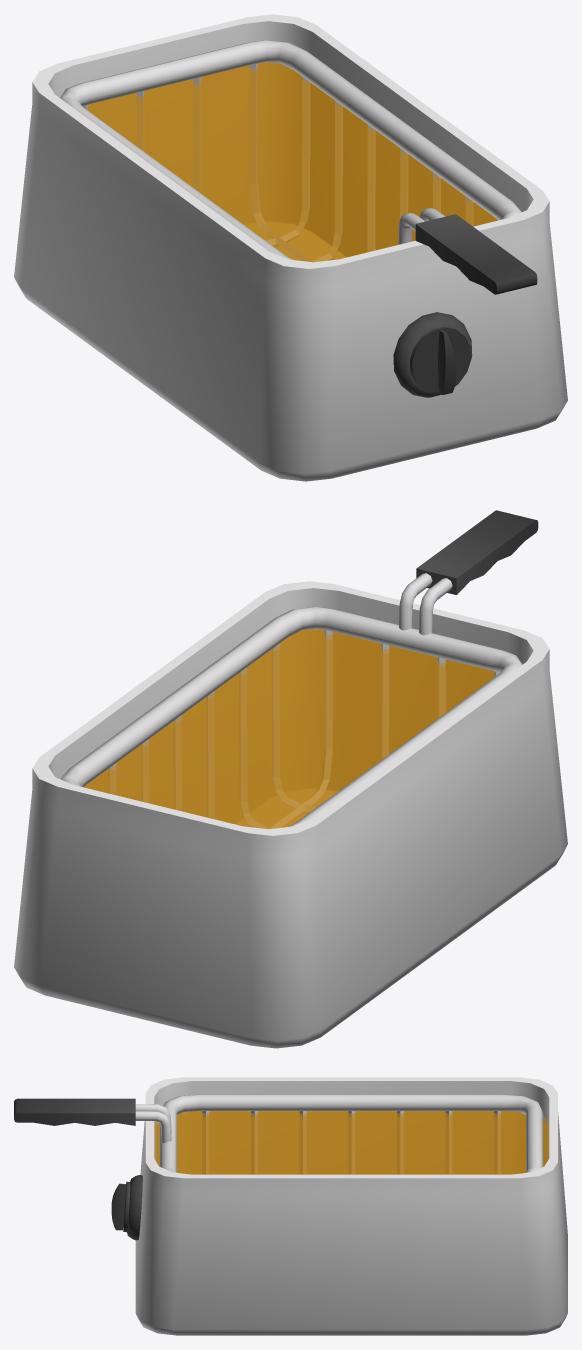
File: deepfryer.fbx
3 renders of one model, top to bottom at view 1: azimuth 30°, elevation 25°; view 2: azimuth 150°, elevation 25°; view 3: azimuth 270°, elevation 25°, orthographic. The views are drawn at different scales.
Visible parts, largest first — view 1: deepFryer, oil_Surface, oil_Volume, basket, Handle, switch_Handle, switch; view 2: deepFryer, oil_Surface, oil_Volume, basket, Handle; view 3: deepFryer, oil_Surface, oil_Volume, basket, Handle, switch, switch_Handle.
Boxes of the visible parts, <box> form: deepFryer: <box>14,14,567,481</box>; oil_Surface: <box>87,62,497,262</box>; oil_Volume: <box>88,62,497,261</box>; basket: <box>60,40,521,261</box>; Handle: <box>398,208,537,294</box>; switch_Handle: <box>410,326,470,395</box>; switch: <box>393,312,472,397</box>; deepFryer: <box>14,581,567,1048</box>; oil_Surface: <box>84,628,495,829</box>; oil_Volume: <box>84,629,493,828</box>; basket: <box>60,607,522,828</box>; Handle: <box>399,510,538,635</box>; deepFryer: <box>135,1077,567,1335</box>; oil_Surface: <box>154,1111,549,1174</box>; oil_Volume: <box>156,1111,546,1174</box>; basket: <box>159,1094,543,1174</box>; Handle: <box>14,1098,171,1143</box>; switch: <box>127,1175,142,1240</box>; switch_Handle: <box>111,1181,130,1232</box>.
Bounding box in the file's own units: 1.49 × 3.19 × 1.14.
